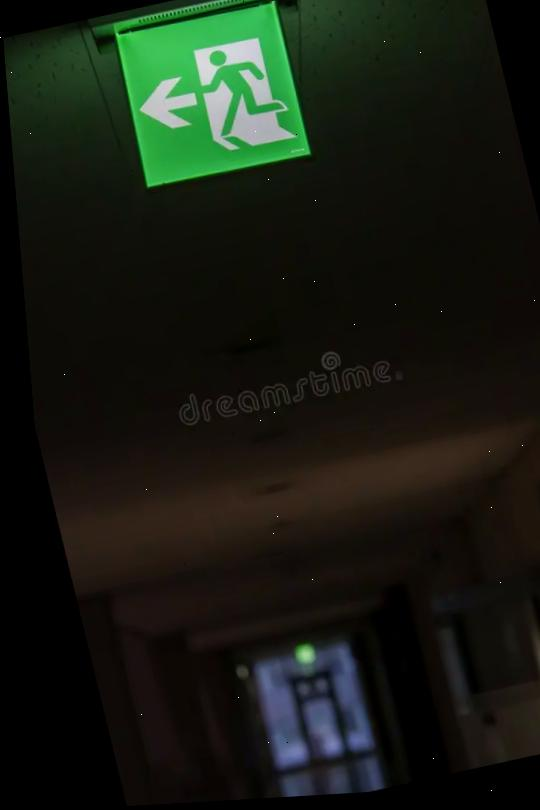emergency_exit: (111, 0, 313, 190)
